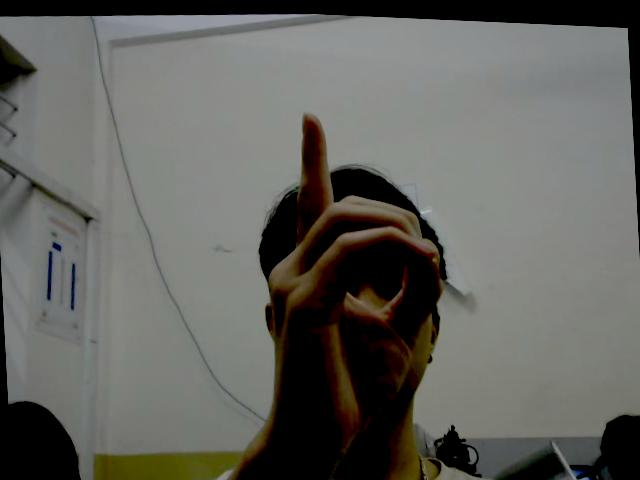D: (250, 98, 452, 455)
